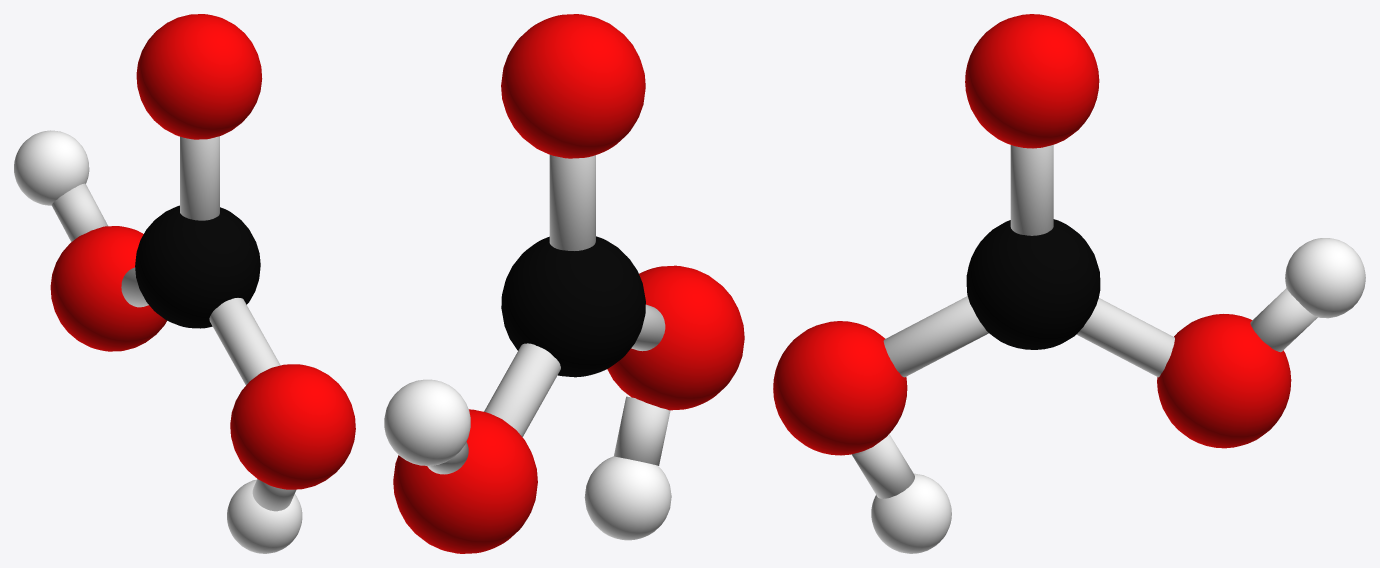
3 renders of one model, left to right at view 1: azimuth 30°, elevation 25°; view 2: azimuth 150°, elevation 25°; view 3: azimuth 270°, elevation 25°, orthographic. The views are drawn at different scales.
Parts seen in each view (by area): view 1: 구체, 구체.002, 구체.005, 구체.001, 구체.003, 구체.004, 실린더.002, 실린더.004, 실린더.003, 실린더, 실린더.001; view 2: 구체.002, 구체.005, 구체.001, 구체, 구체.003, 구체.004, 실린더.004, 실린더.001, 실린더, 실린더.002, 실린더.003; view 3: 구체.002, 구체, 구체.001, 구체.005, 구체.003, 구체.004, 실린더.002, 실린더.001, 실린더.004, 실린더, 실린더.003.
Part boxes in pixels (<box>): 구체: <box>230,364,355,489</box>; 구체.002: <box>136,14,262,139</box>; 구체.005: <box>135,205,260,328</box>; 구체.001: <box>50,226,166,351</box>; 구체.003: <box>14,130,89,205</box>; 구체.004: <box>227,479,302,553</box>; 실린더.002: <box>209,298,280,385</box>; 실린더.004: <box>180,136,219,220</box>; 실린더.003: <box>51,183,107,241</box>; 실린더: <box>252,479,296,511</box>; 실린더.001: <box>121,267,148,307</box>; 구체.002: <box>501,14,645,158</box>; 구체.005: <box>501,236,645,377</box>; 구체.001: <box>393,409,537,553</box>; 구체: <box>607,265,744,410</box>; 구체.003: <box>384,379,470,465</box>; 구체.004: <box>584,456,671,540</box>; 실린더.004: <box>549,155,595,250</box>; 실린더.001: <box>484,343,560,436</box>; 실린더: <box>614,396,670,465</box>; 실린더.002: <box>631,304,665,351</box>; 실린더.003: <box>427,442,468,474</box>; 구체.002: <box>965,14,1099,148</box>; 구체: <box>773,321,907,455</box>; 구체.001: <box>1157,314,1291,448</box>; 구체.005: <box>966,219,1100,349</box>; 구체.003: <box>1285,238,1365,318</box>; 구체.004: <box>871,473,951,553</box>; 실린더.002: <box>883,296,988,377</box>; 실린더.001: <box>1076,298,1174,377</box>; 실린더.004: <box>1010,145,1053,235</box>; 실린더: <box>851,434,914,498</box>; 실린더.003: <box>1250,288,1317,352</box>.
Size of the model in its own units: 260 by 1077 by 1101.
